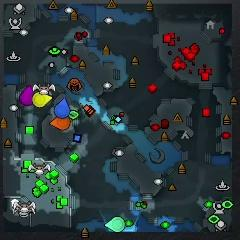p1: (54, 99, 69, 117)
p2: (105, 218, 124, 233)
p3: (20, 85, 34, 105)
p4: (33, 94, 51, 109)
p5: (48, 116, 73, 131)
